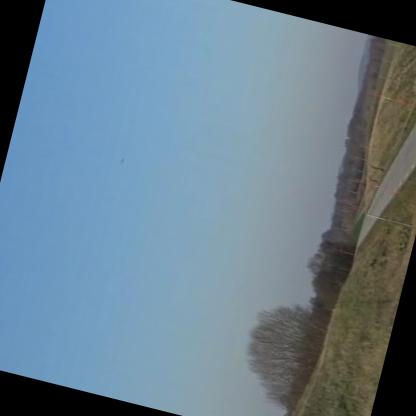plane: (115, 152, 128, 166)
